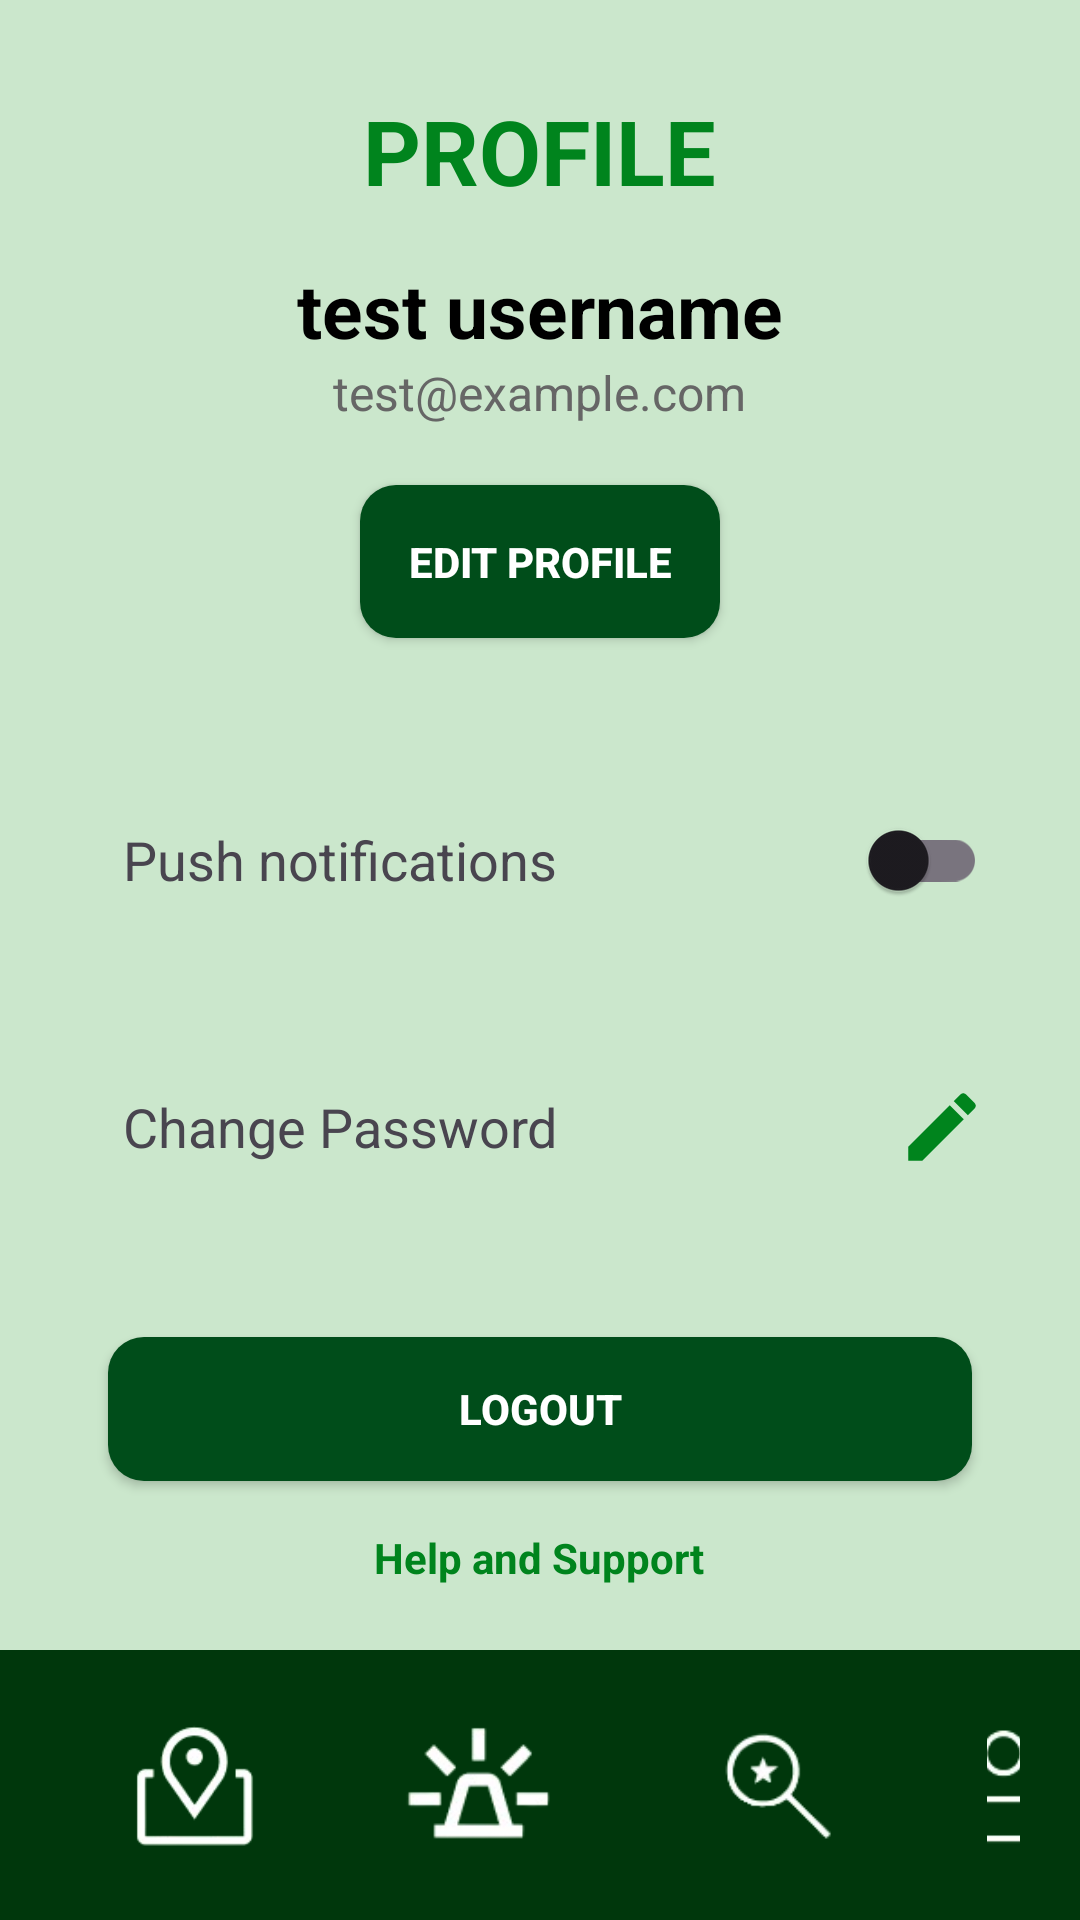

Named icons in this screenshot (1080 × 1920) and their bounding boxes, (x1, y1, x2, y2):
Campus Map: (137, 1727, 253, 1846)
edit: (908, 1093, 976, 1161)
Emergency: (408, 1728, 550, 1839)
Saved: (725, 1733, 831, 1839)
